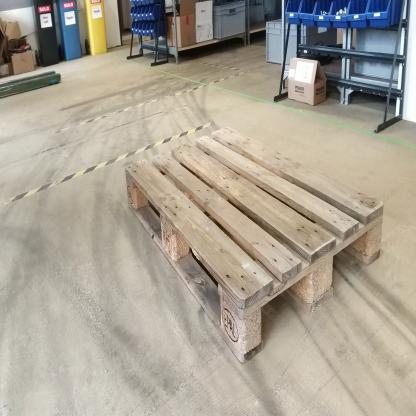BoxFace: (121, 120, 389, 372)
